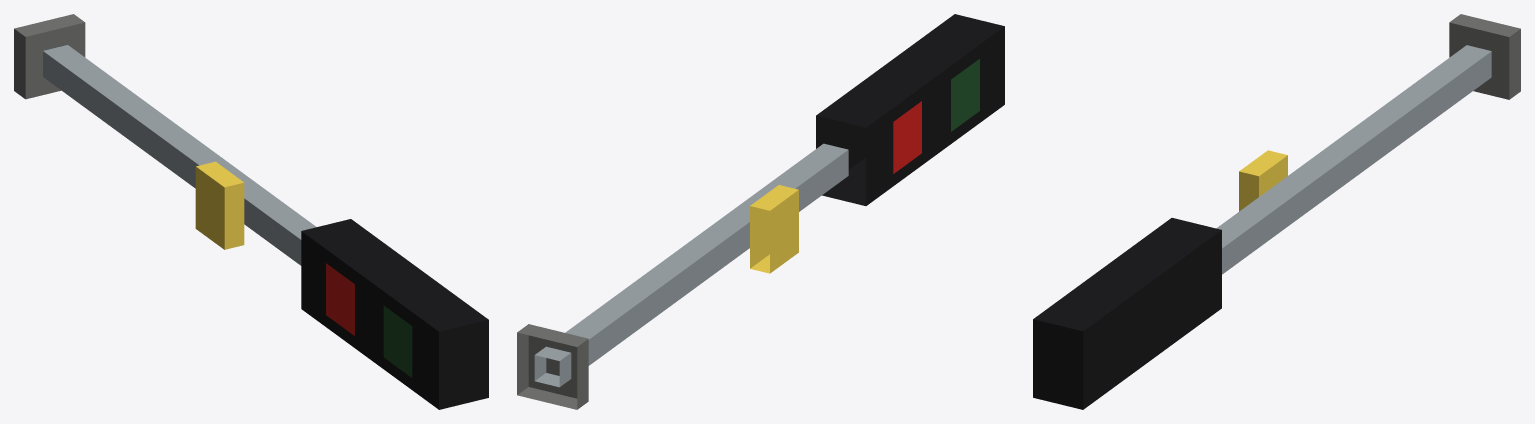
File: red.glb
The picture shows the model from 3 angles, left to right: view 1: azimuth 30°, elevation 25°; view 2: azimuth 150°, elevation 25°; view 3: azimuth 330°, elevation 25°; orthographic projection.
Parts seen in each view (by area): view 1: signal_electric_entry_red; view 2: signal_electric_entry_red; view 3: signal_electric_entry_red.
Boxes of the visible parts, x1,y1,x2,y2 form: signal_electric_entry_red: [14, 14, 488, 409]; signal_electric_entry_red: [517, 14, 1004, 409]; signal_electric_entry_red: [1033, 14, 1520, 409].
Bounding box in the file's own units: 1.3 × 1.5 × 14.8.
